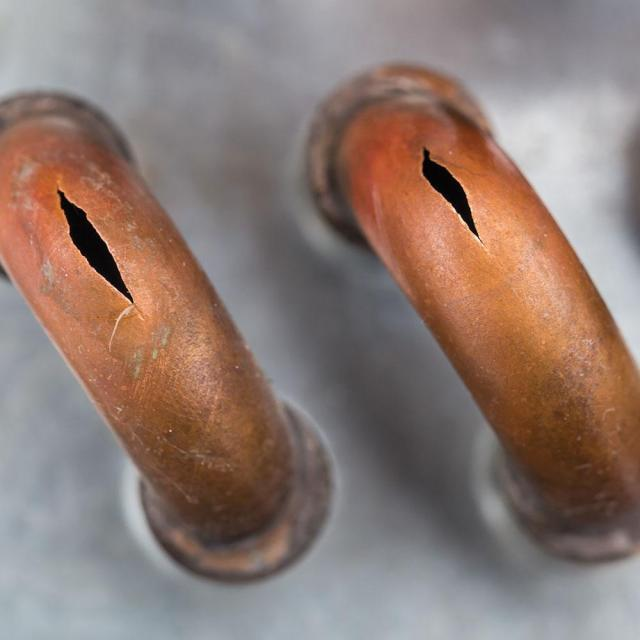rupture: (48, 179, 144, 316), (409, 135, 495, 257)
